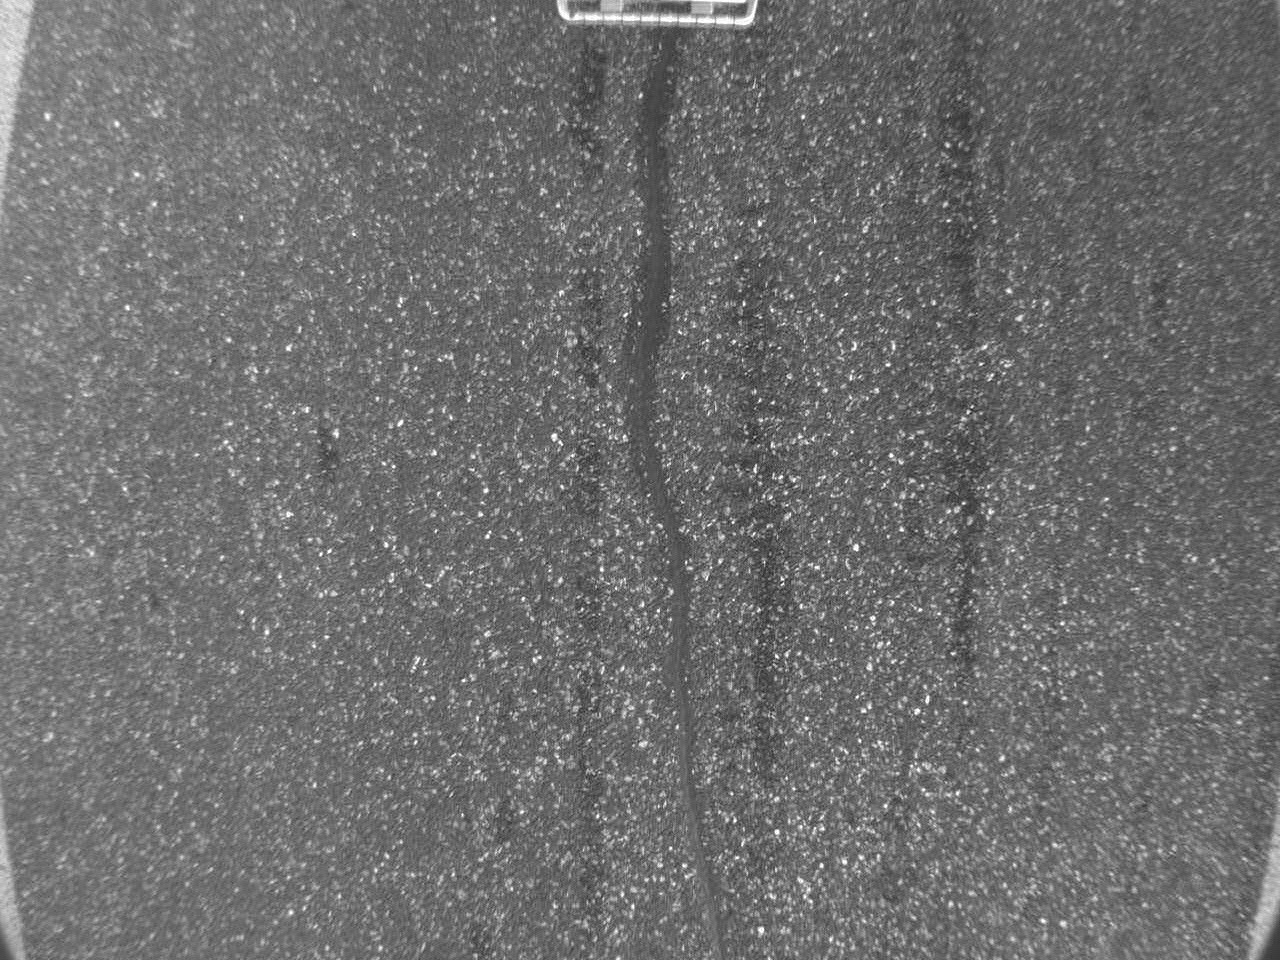sealed: (614, 14, 726, 950)
